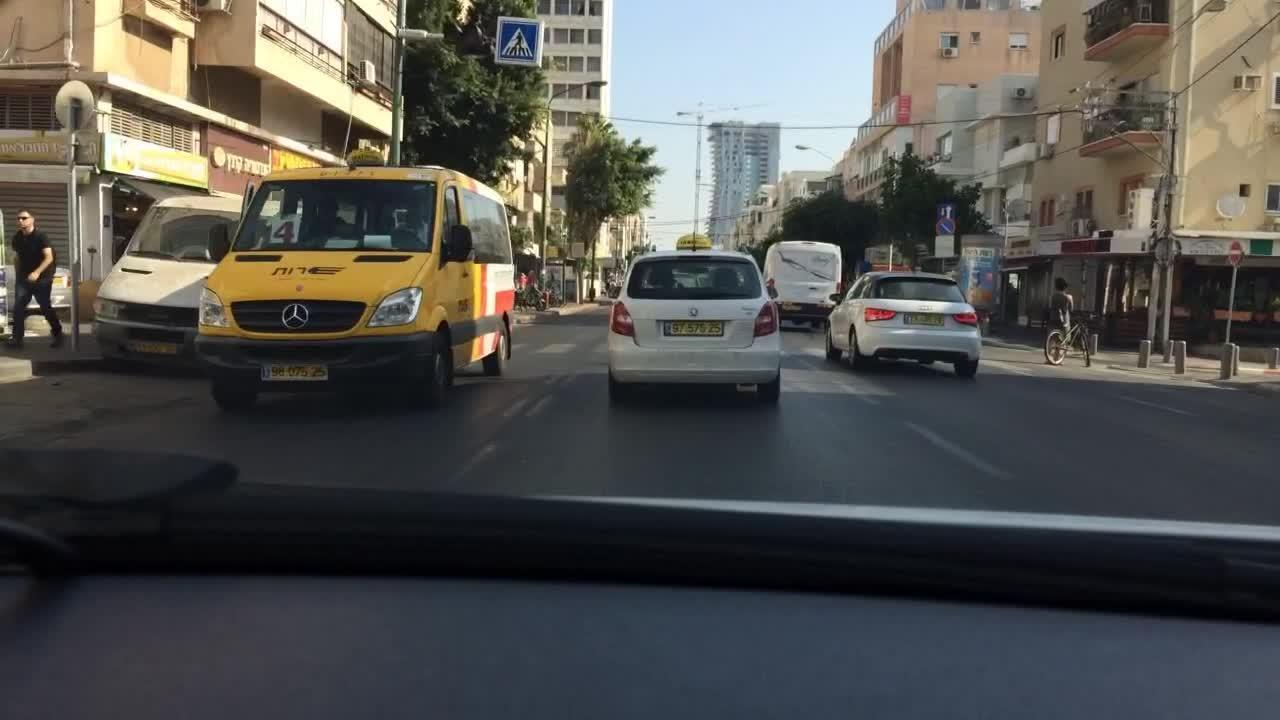Mercedes: (283, 304, 314, 333)
